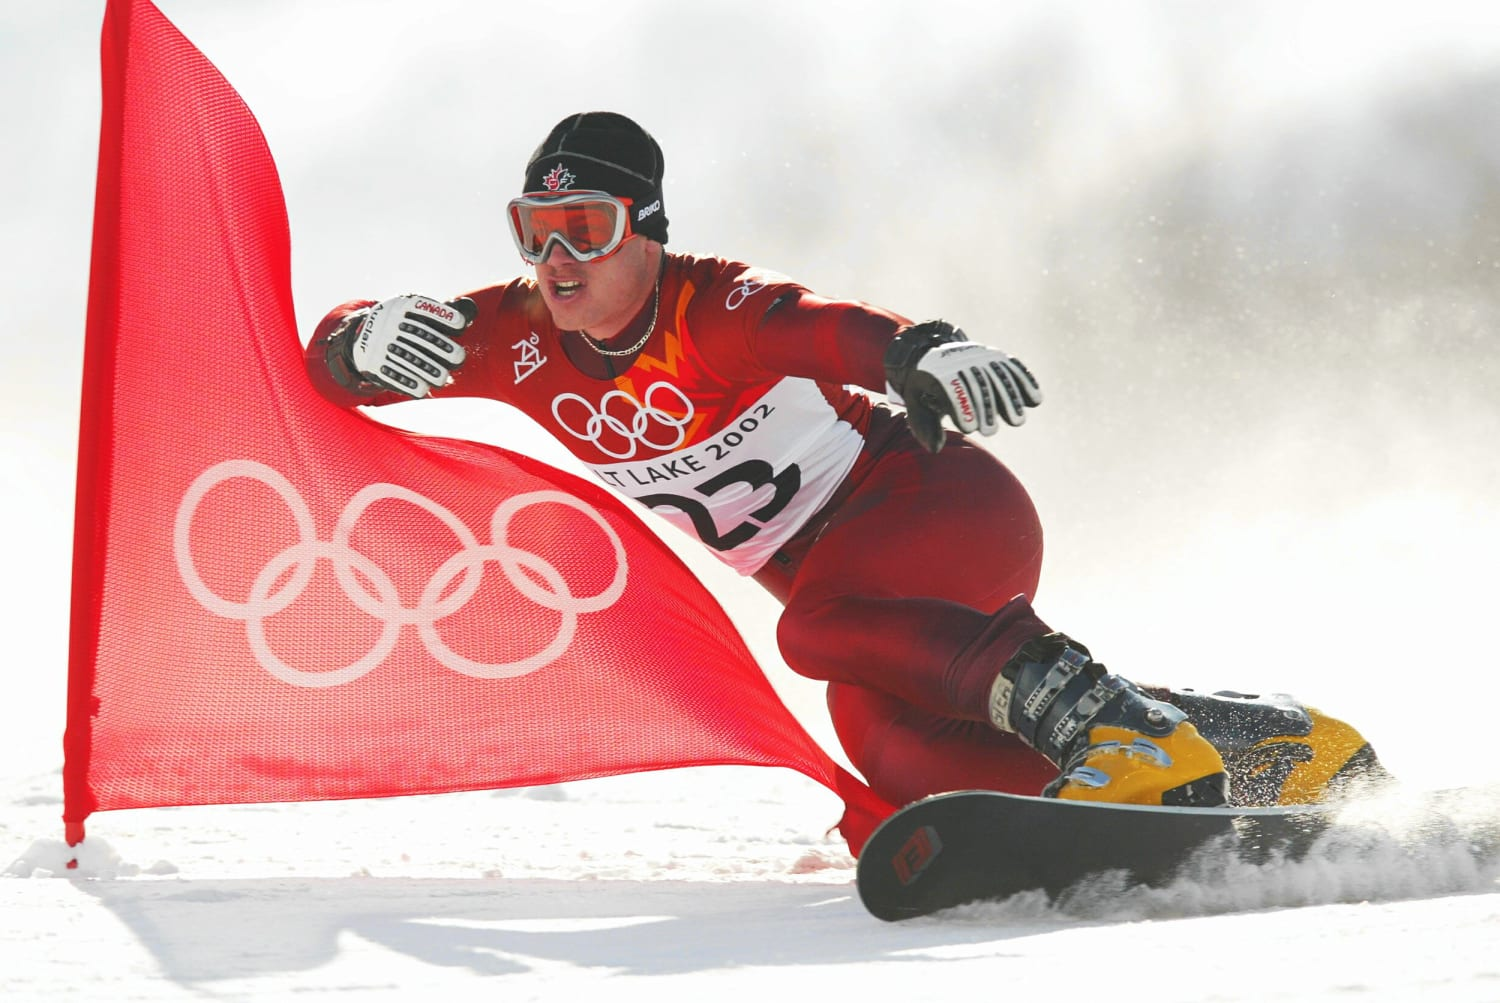snowboarder: (316, 116, 1474, 920)
